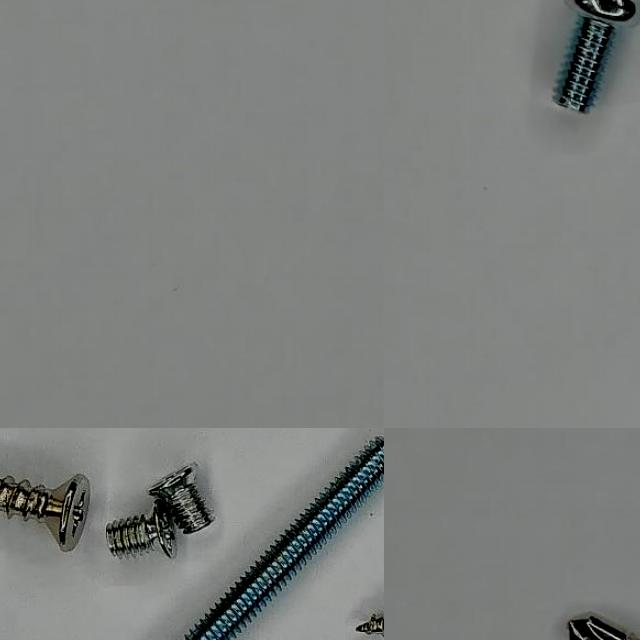Screw: (181, 437, 384, 640), (553, 0, 640, 112), (0, 474, 88, 551), (148, 464, 214, 534), (106, 504, 174, 558)
